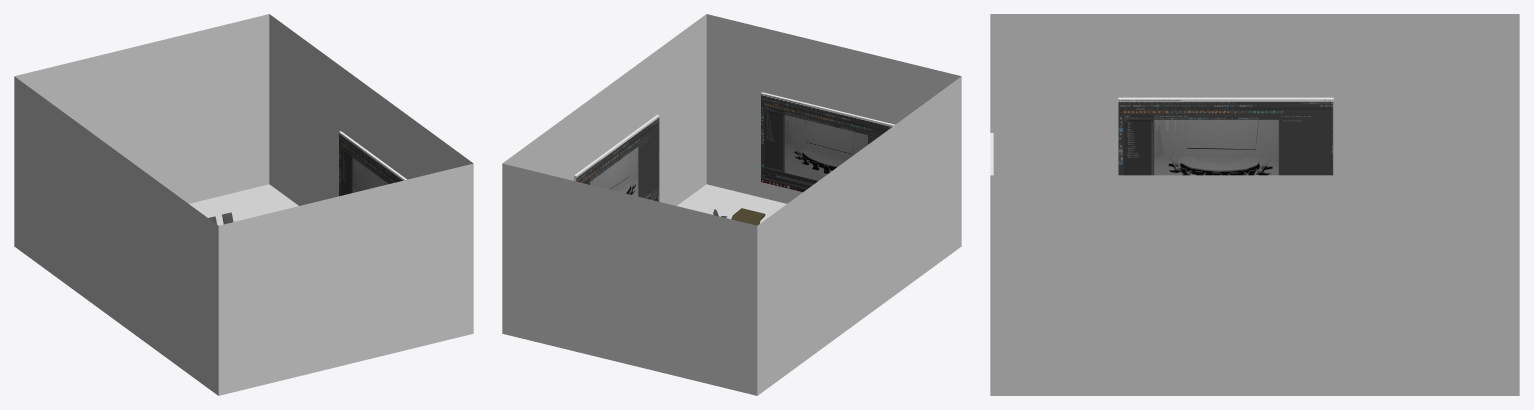
The model's file is room_test.fbx.
The picture shows the model from 3 angles, left to right: view 1: azimuth 30°, elevation 25°; view 2: azimuth 150°, elevation 25°; view 3: azimuth 270°, elevation 25°; orthographic projection. The views are drawn at different scales.
Visible parts, largest first — view 1: pPlane4, pPlane2, pPlane5, pPlane3, pCube5, pPlane1; view 2: pPlane5, pPlane2, pPlane4, pPlane3, pCube4, pCube5, pPlane1; view 3: pPlane3, pPlane2, pCube6.
Boxes of the visible parts, <box> form: pPlane4: <box>218,163,473,395</box>; pPlane2: <box>14,76,218,395</box>; pPlane5: <box>14,14,269,203</box>; pPlane3: <box>269,14,473,205</box>; pCube5: <box>339,131,406,196</box>; pPlane1: <box>189,184,298,225</box>; pPlane5: <box>502,163,757,395</box>; pPlane2: <box>757,76,961,395</box>; pPlane4: <box>706,14,961,203</box>; pPlane3: <box>502,14,706,205</box>; pCube4: <box>761,92,894,192</box>; pCube5: <box>574,115,659,201</box>; pPlane1: <box>677,184,786,223</box>; pPlane3: <box>990,175,1519,395</box>; pPlane2: <box>990,14,1519,175</box>; pCube6: <box>1118,97,1333,175</box>.
Size of the model in its own units: 111 by 70.91 by 154.
Materials: 7 (1 with a texture image).
